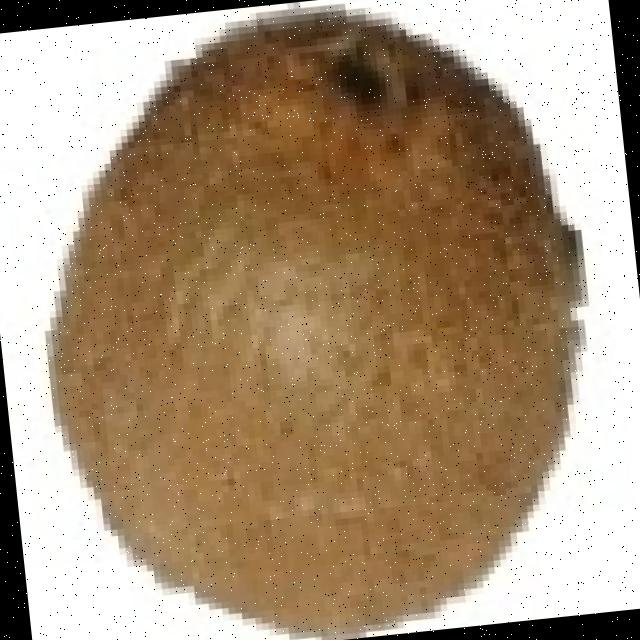kiwi: (41, 24, 568, 640)
